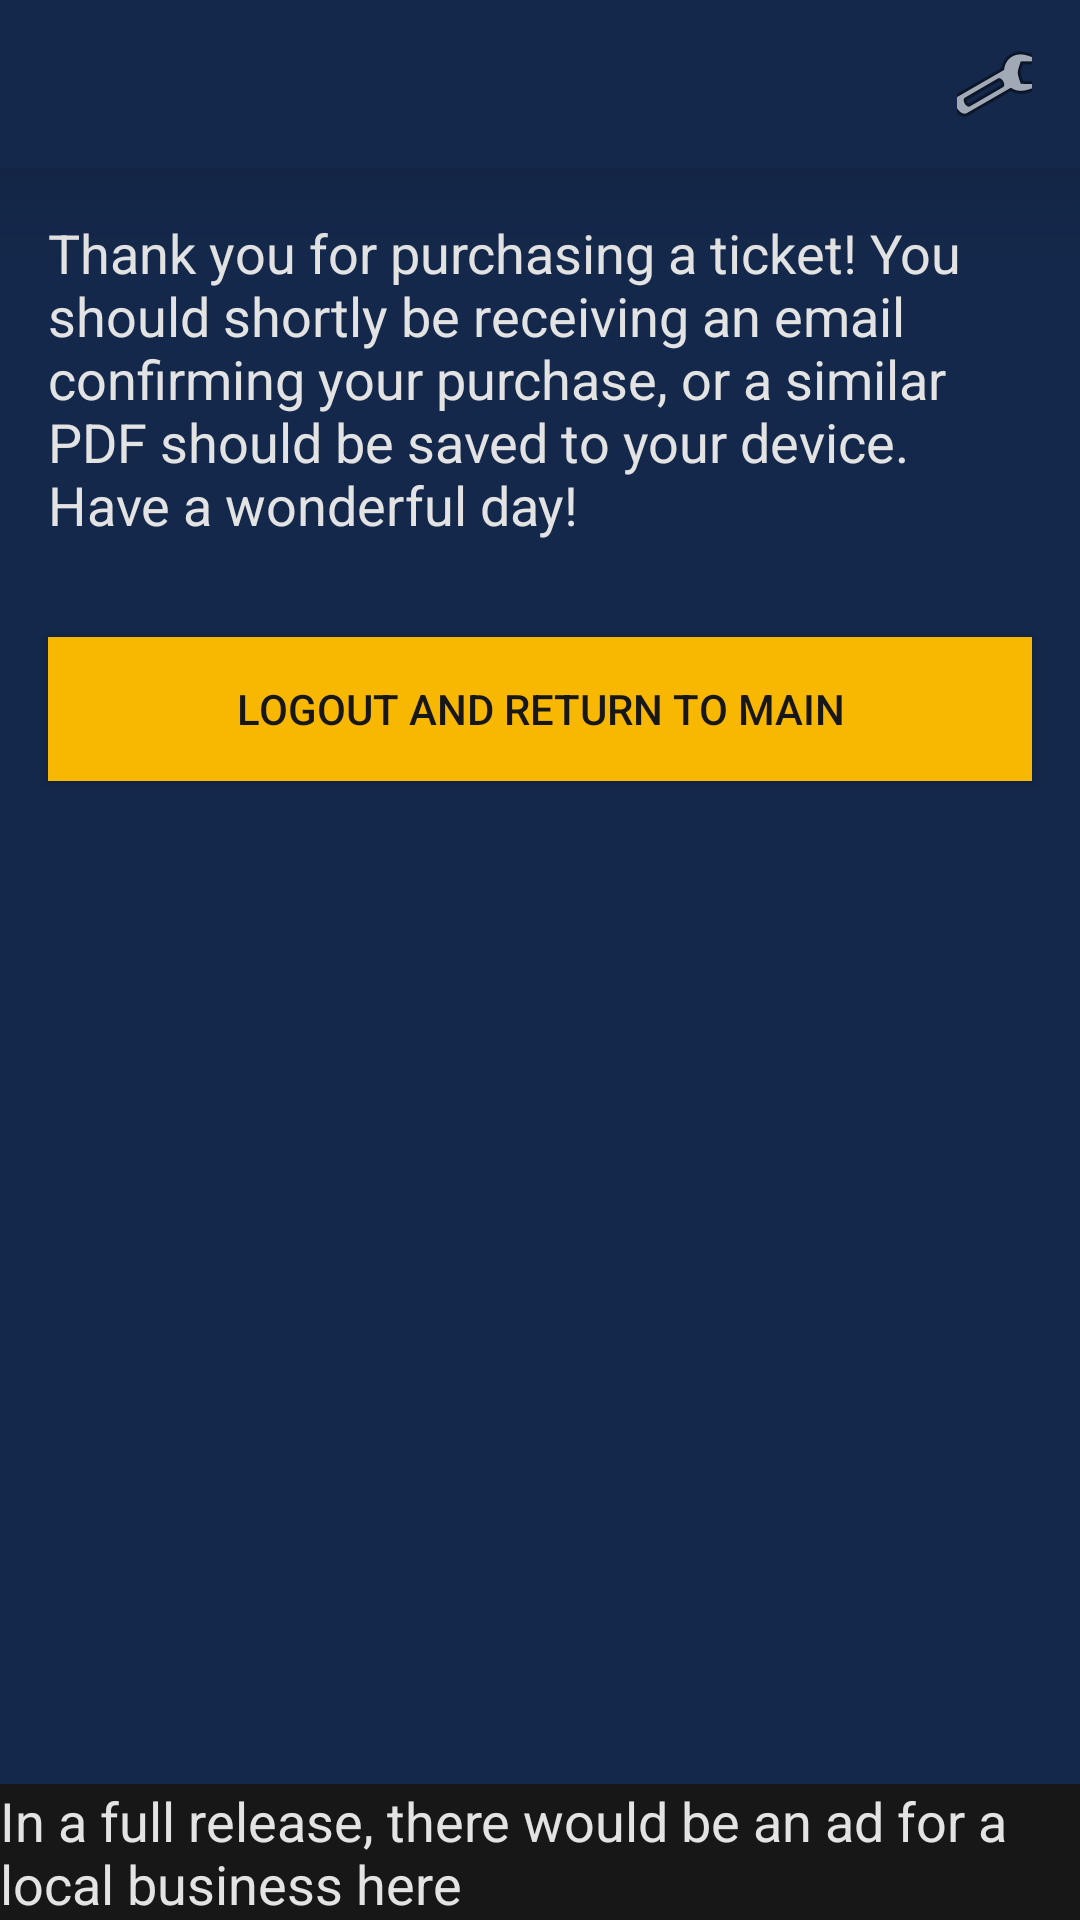

Named icons in this screenshot (1080×1920) and their centers, point (x, y):
manage: point (994, 84)
